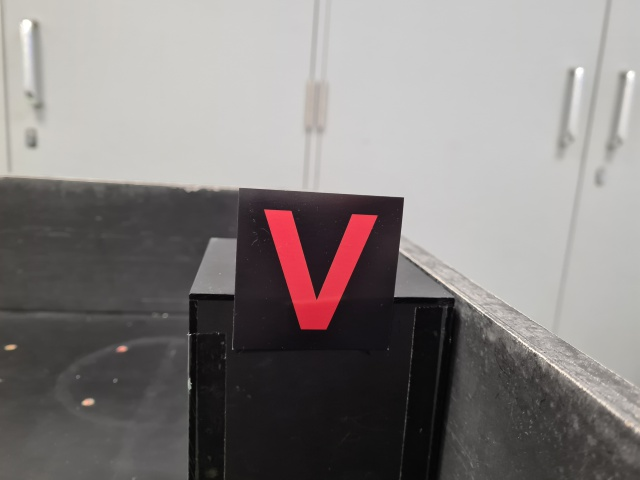alphabet_v: (233, 188, 405, 352)
